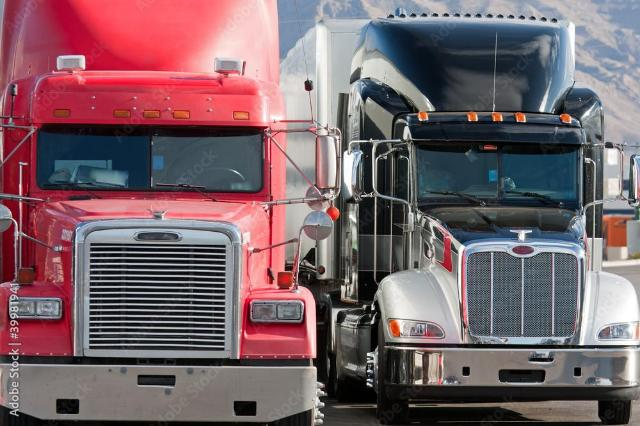truck: (0, 0, 347, 424)
